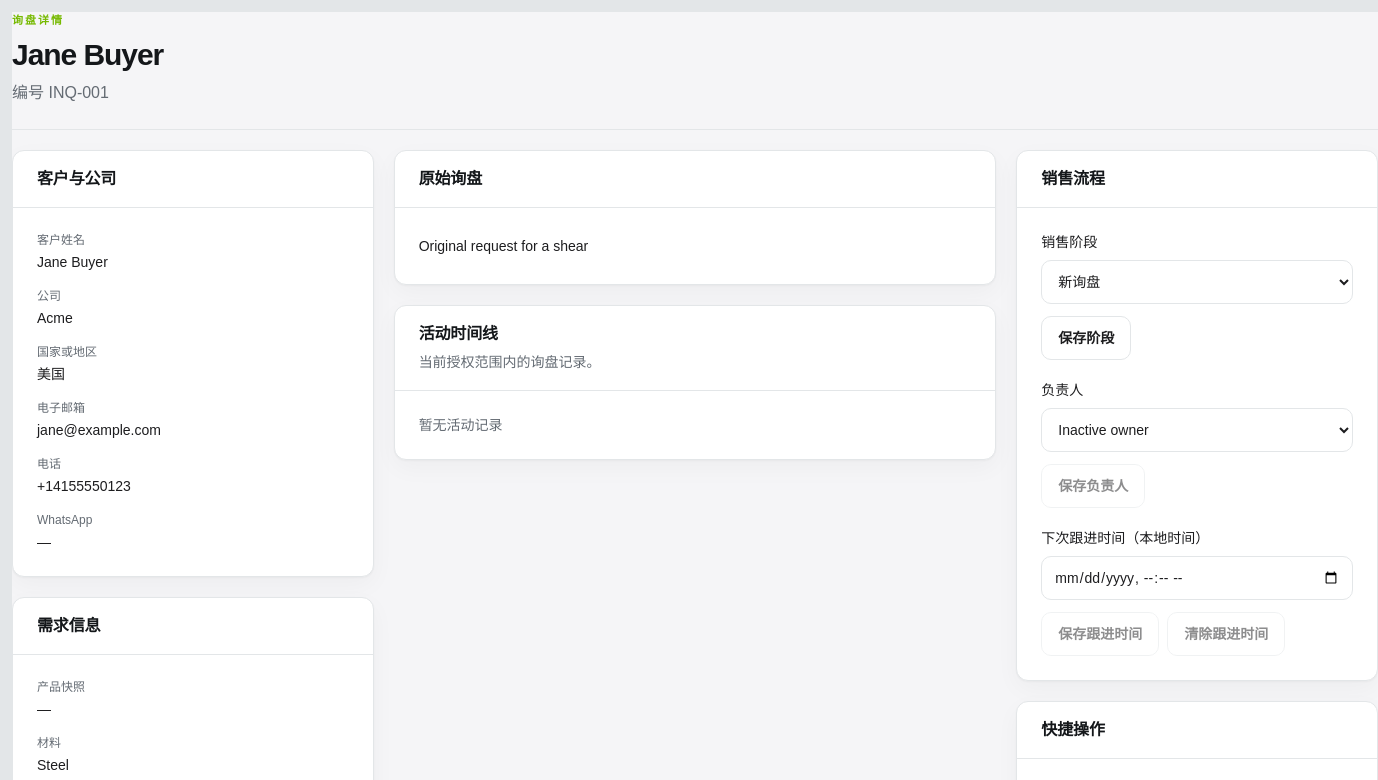
Scenario: inquiry workspace › uses service capabilities for an inactive current owner in a managed team
Expected: the dropdown labelled "销售阶段" is enabled, [1041,260,1353,304]
Expected: the field labelled "下次跟进时间（本地时间）" is enabled, [1041,556,1353,600]
Step 1. Select "Active replacement" in the dropdown labelled "负责人" → (1197, 430), box [1041,408,1353,452]
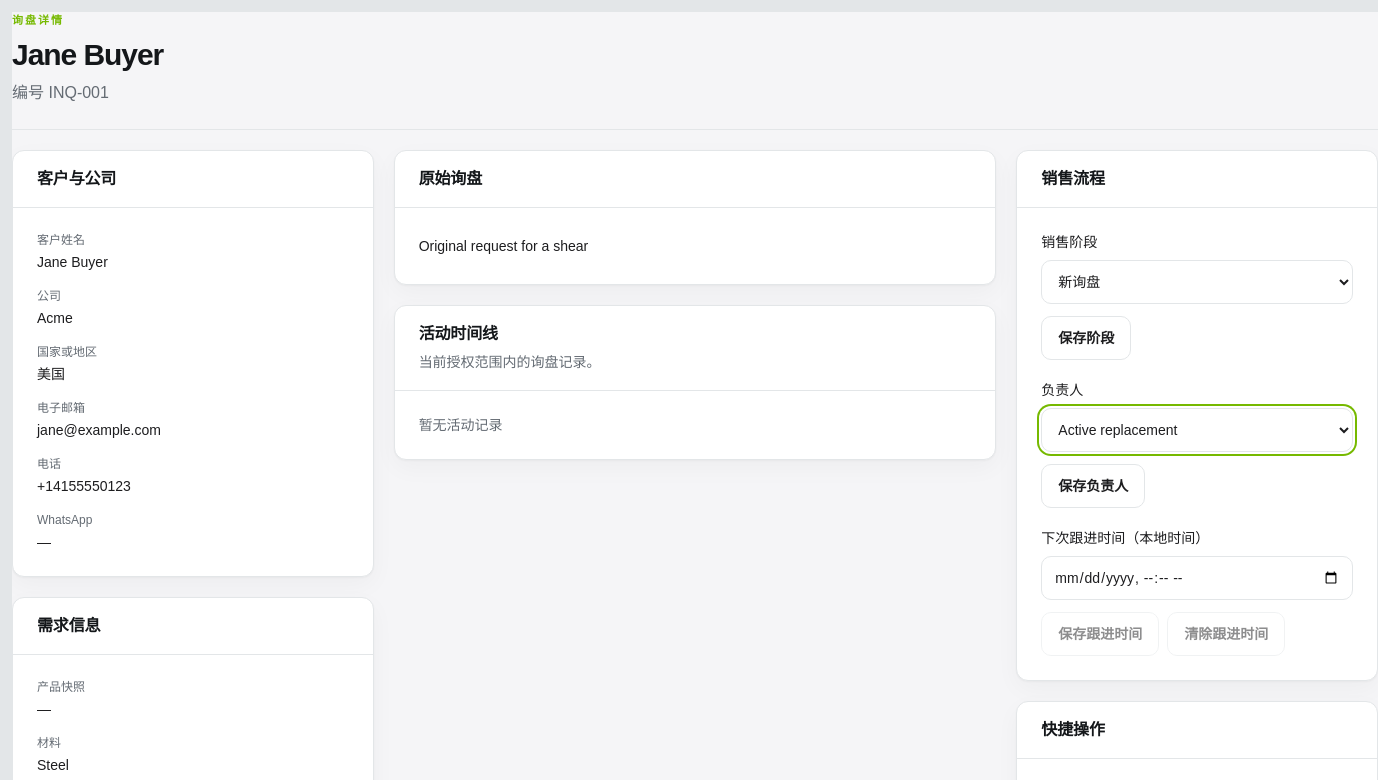
Now the button "保存负责人" is enabled, box [1041,464,1145,508]
